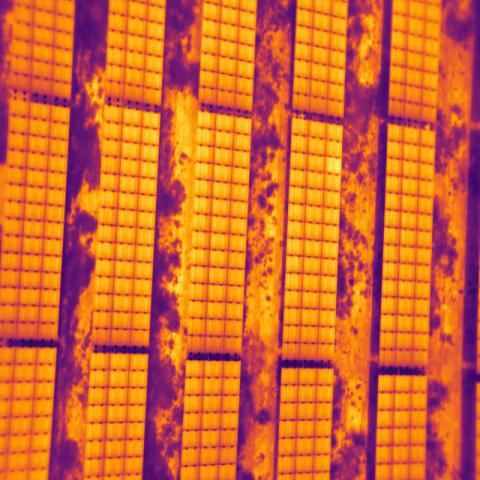fault: (325, 156, 342, 175)
